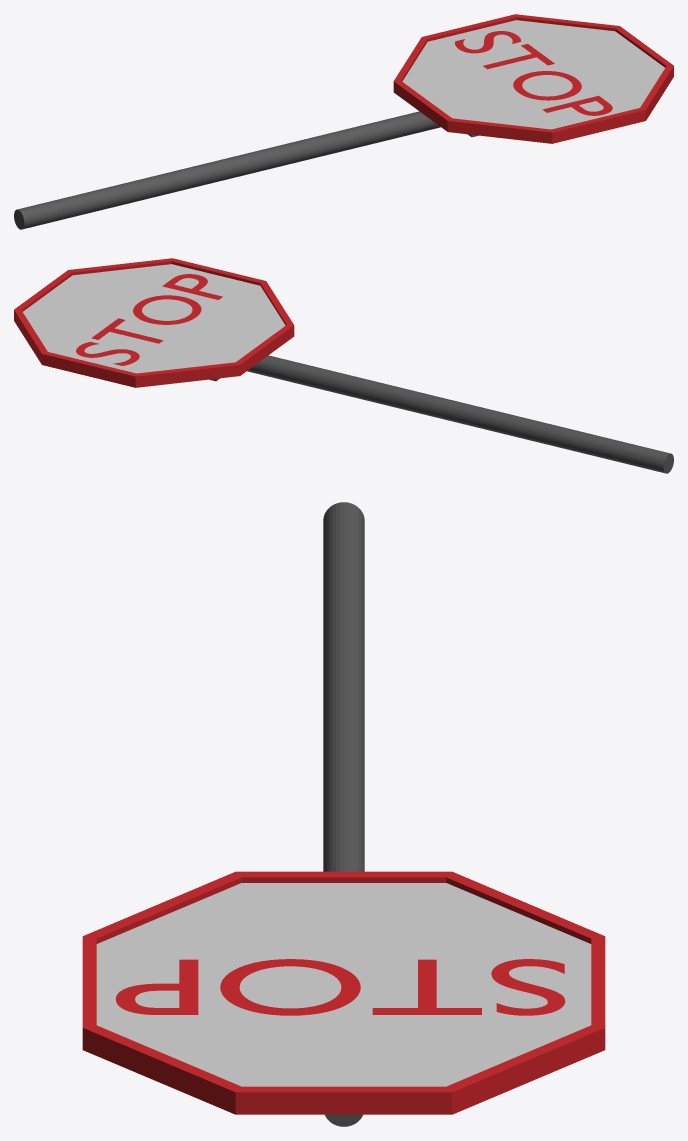
Rendered from Stop.fbx.
3 views of the same model, one above another, from view 1: azimuth 30°, elevation 25°; view 2: azimuth 150°, elevation 25°; view 3: azimuth 270°, elevation 25° (orthographic). The views are drawn at different scales.
Visible parts, largest first — view 1: Circle, Cylinder, Text; view 2: Circle, Cylinder, Text; view 3: Circle, Cylinder, Text.
Boxes of the visible parts, <box> form: Circle: <box>393,14,673,143</box>; Cylinder: <box>14,111,440,229</box>; Text: <box>455,31,612,115</box>; Circle: <box>14,258,294,387</box>; Cylinder: <box>247,355,673,473</box>; Text: <box>76,274,222,365</box>; Circle: <box>82,871,605,1114</box>; Cylinder: <box>323,502,364,1126</box>; Text: <box>115,959,565,1015</box>.
Bounding box in the file's own units: 513 × 27.83 × 185.
